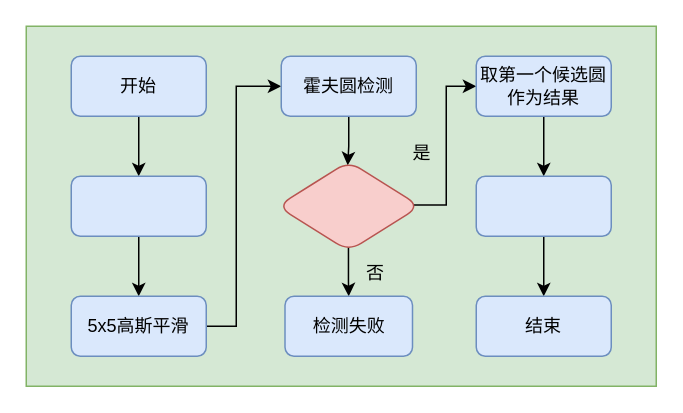
The diagram is 683 pixels wide and 413 high, and some of its shapes have lost their labels. Each missing label, with the box of its shape:
是否检测到圆: (276, 160, 420, 251)
输入灰度图: (70, 175, 206, 236)
输出：半径、圆心、成功状态等: (475, 175, 611, 236)
